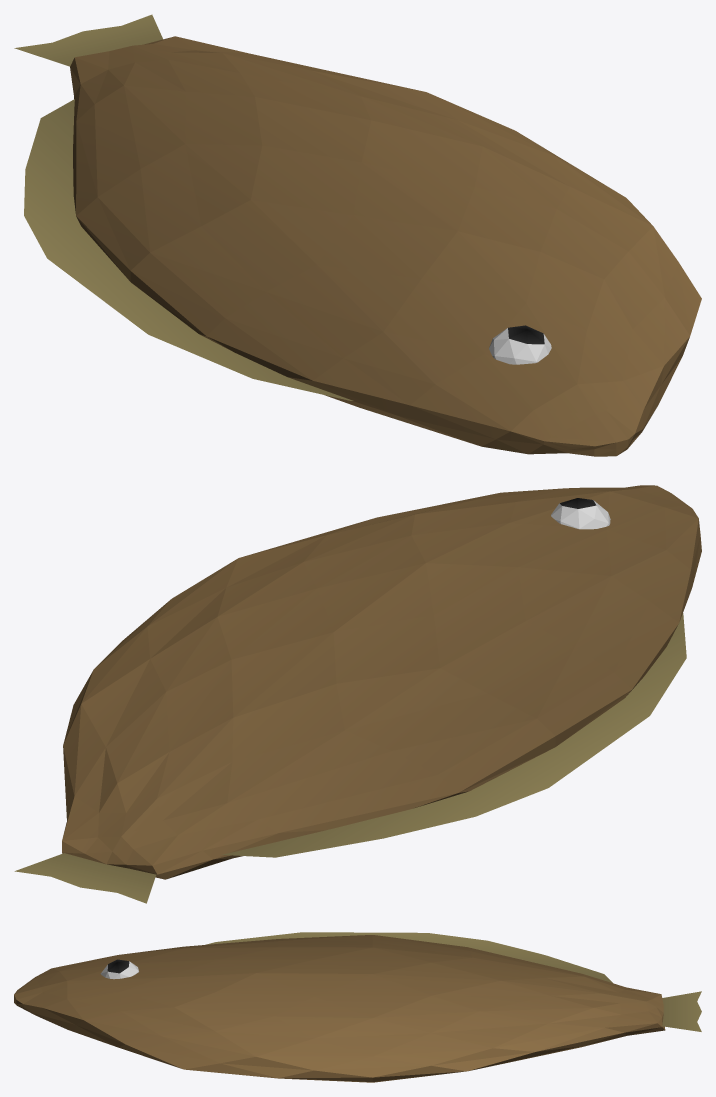
File: sole.glb
3 views of the same model, one above another, from view 1: azimuth 30°, elevation 25°; view 2: azimuth 150°, elevation 25°; view 3: azimuth 270°, elevation 25° (orthographic). The views are drawn at different scales.
Parts seen in each view (by area): view 1: fin_tail.001; view 2: fin_tail.001; view 3: fin_tail.001.
Boxes of the visible parts, box(x1,y1,x2,y2) form: fin_tail.001: box(14, 14, 701, 456); fin_tail.001: box(14, 485, 701, 903); fin_tail.001: box(14, 932, 701, 1082).
Size of the model in its own units: 4.17 by 0.7661 by 8.32.
1 material, 1 textured.
